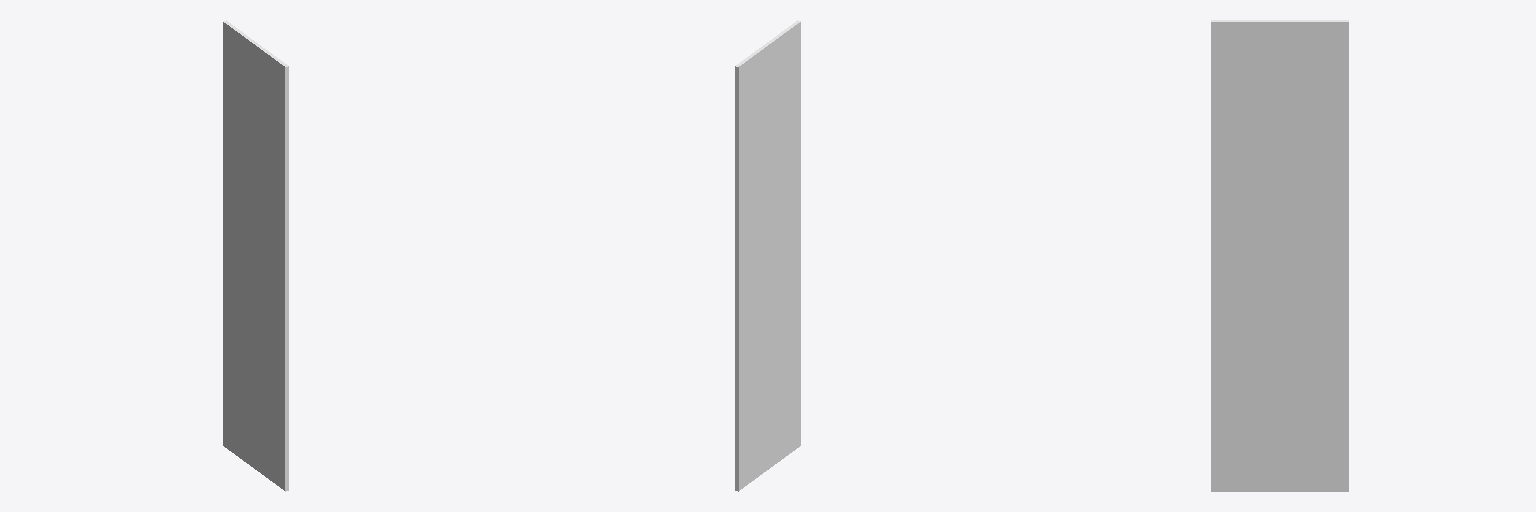
URDF robot description (wall2_2.urdf):
<?xml version="1.0" ?>
<robot name="wall2_2.urdf">
  <link name="baseLink">
    <inertial>
      <origin rpy="0 0 0" xyz="0 0 0"/>
       <mass value="0.0"/>
       <inertia ixx="0" ixy="0" ixz="0" iyy="0" iyz="0" izz="0"/>
    </inertial>
    <visual>
      <origin rpy="0 0 0" xyz="0 0 0"/>
      <geometry>
        <mesh filename="wall2_2.obj" scale="1.0 1.0 1.0"/>
      </geometry>
      <material name="white">
       <color rgba="1 1 1 1"/>
     </material>
    </visual>
    <collision>
      <origin rpy="0 0 0" xyz="0 0 0"/>
      <geometry>
        <mesh filename="wall2_2.obj" scale="1.0 1.0 1.0"/>
        <!-- You could also specify the collision (for the wall2_2) with a "box" tag: -->
        <!-- <box size=".06 .06 .06"/> -->
      </geometry>
    </collision>
  </link>
</robot>
        

--- Render facts (derived) ---
3 views of the same robot in one strip: view 1: azimuth 30°, elevation 25°; view 2: azimuth 150°, elevation 25°; view 3: azimuth 270°, elevation 25° (orthographic).
Robot: wall2_2.urdf — 1 links, 0 joints (none); root link baseLink; default pose: all joints at 0.
Links seen in each view (by area): view 1: baseLink; view 2: baseLink; view 3: baseLink.
Link boxes in pixels (box(x1,y1,x2,y2)): baseLink: box(223, 20, 288, 491); baseLink: box(735, 20, 800, 491); baseLink: box(1211, 20, 1348, 491).
Bounding box of the posed robot: 0.091 × 2.75 × 10.29 m (x, y, z).
1 mesh visuals loaded from 1 distinct referenced files (1 OBJ).
